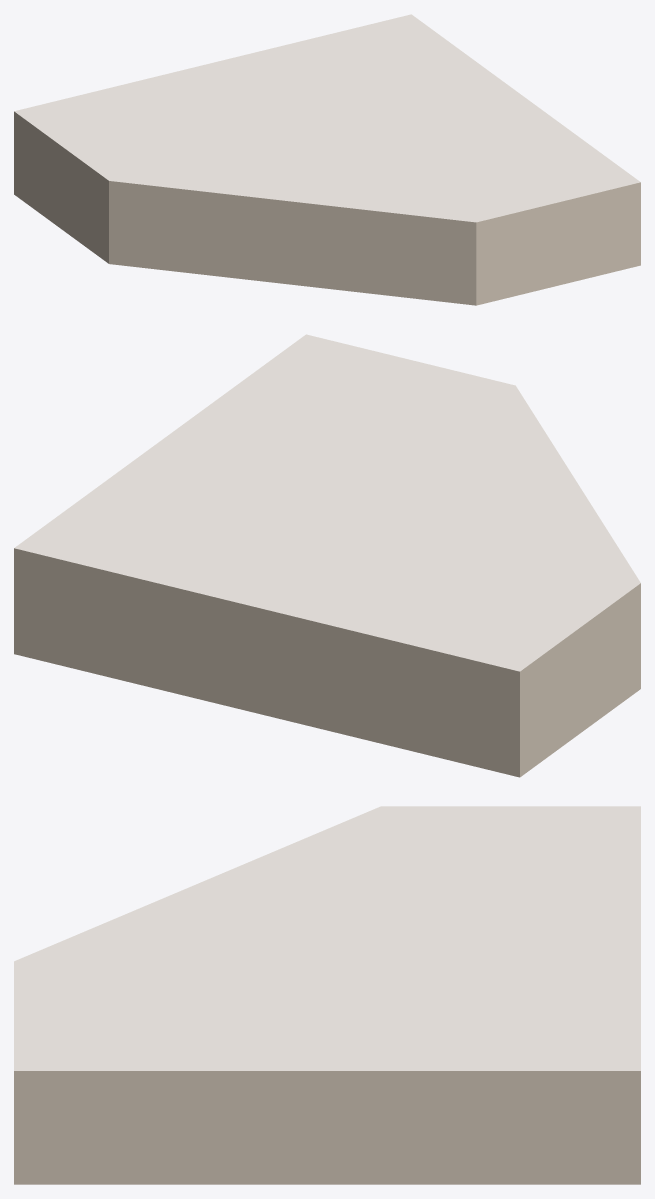
3 views of the same model, one above another, from view 1: azimuth 30°, elevation 25°; view 2: azimuth 150°, elevation 25°; view 3: azimuth 270°, elevation 25° (orthographic). The views are drawn at different scales.
Visible parts, largest first — view 1: object1.003; view 2: object1.003; view 3: object1.003.
Part boxes in pixels (<box>): object1.003: <box>14,14,640,305</box>; object1.003: <box>14,334,640,777</box>; object1.003: <box>14,806,640,1184</box>.
Bounding box in the file's own units: 1 × 0.2 × 1.
